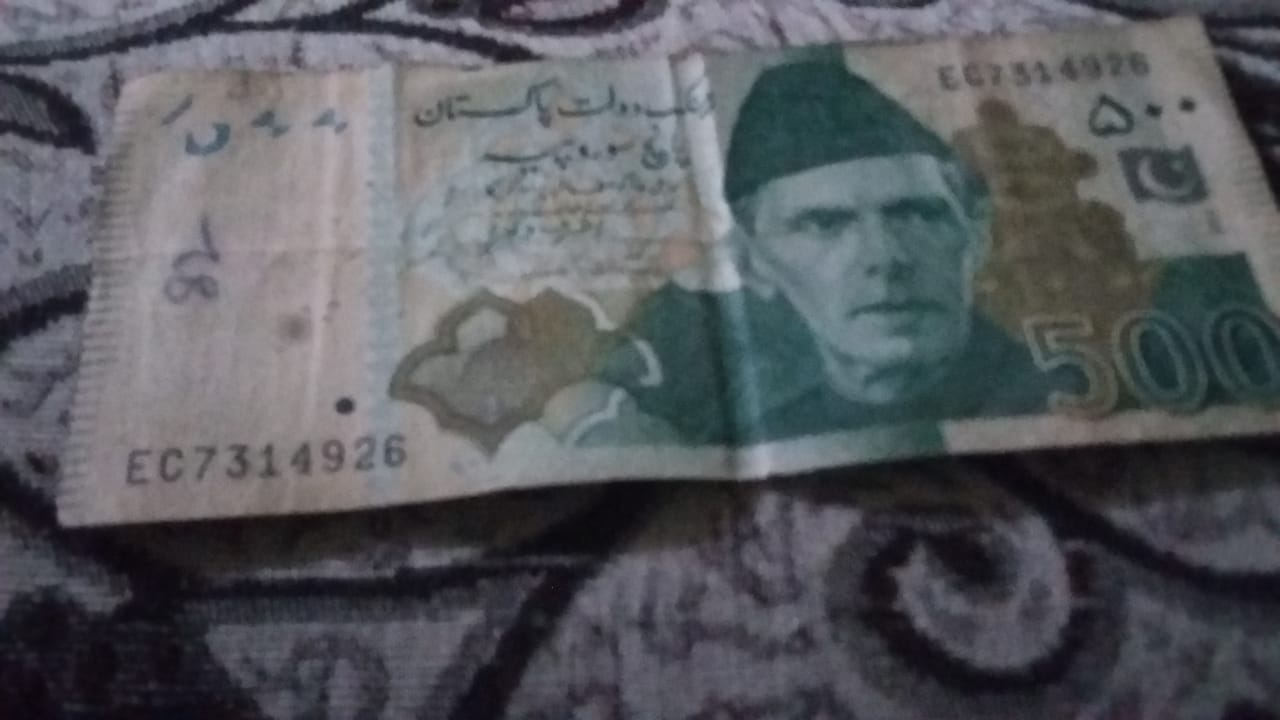500 rupee: (72, 54, 1267, 485)
